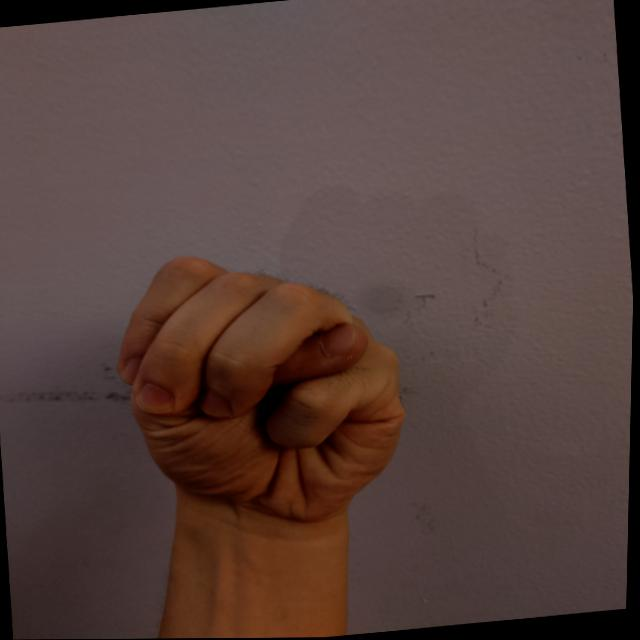M: (100, 230, 427, 547)
